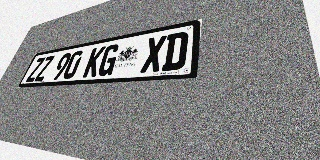0: (62, 50, 84, 79)
9: (51, 52, 73, 80)
D: (161, 31, 189, 71)
G: (96, 43, 121, 76)
K: (82, 46, 106, 78)
X: (140, 35, 167, 73)
Z: (34, 55, 55, 81), (25, 57, 46, 82)
